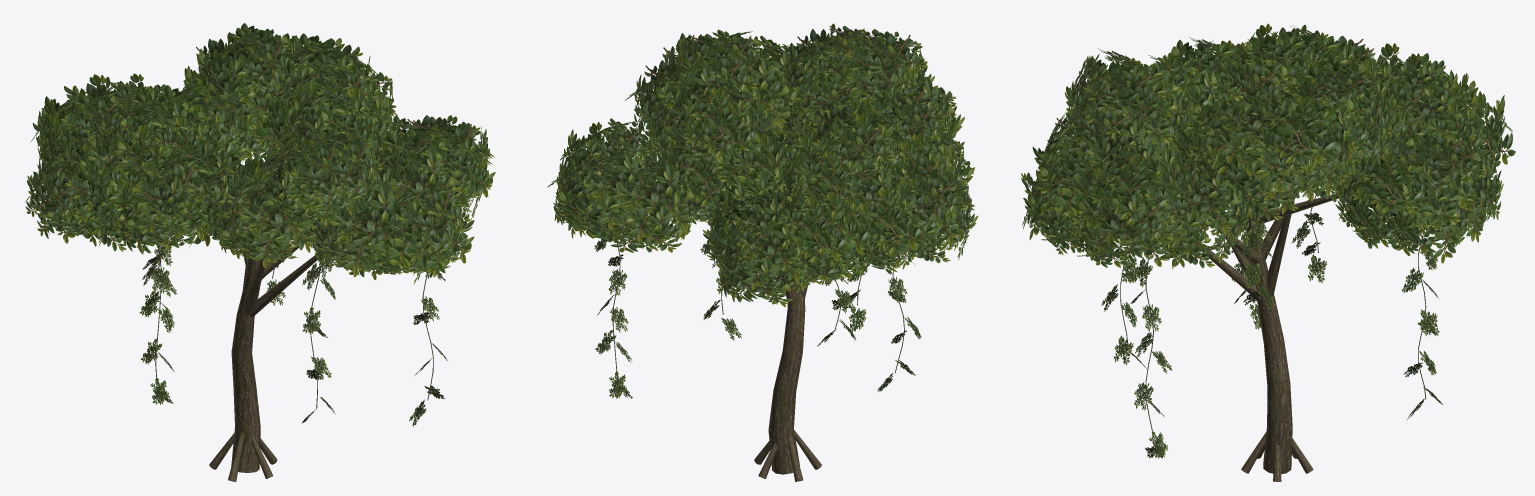
The model's file is tree_03.glb.
3 views of the same model, side by side, from view 1: azimuth 30°, elevation 25°; view 2: azimuth 150°, elevation 25°; view 3: azimuth 270°, elevation 25° (orthographic). The views are drawn at different scales.
Parts seen in each view (by area): view 1: tree_03; view 2: tree_03; view 3: tree_03.
Boxes of the visible parts, x1,y1,x2,y2 form: tree_03: (25,23,495,481); tree_03: (547,23,978,481); tree_03: (1021,23,1515,481).
Size of the model in its own units: 9.63 by 9.42 by 10.25.
Materials: 2 (2 with a texture image).
